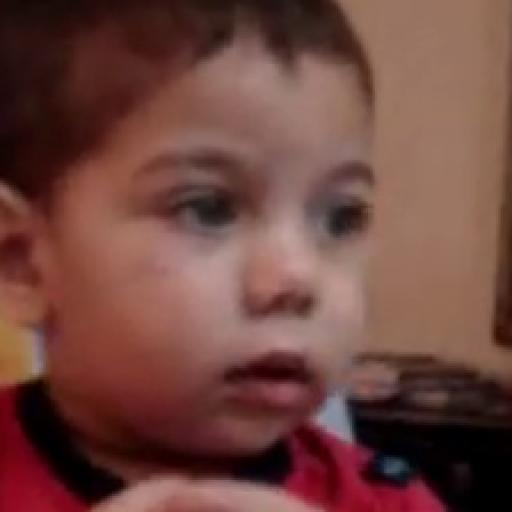Autism: (26, 16, 412, 463)
